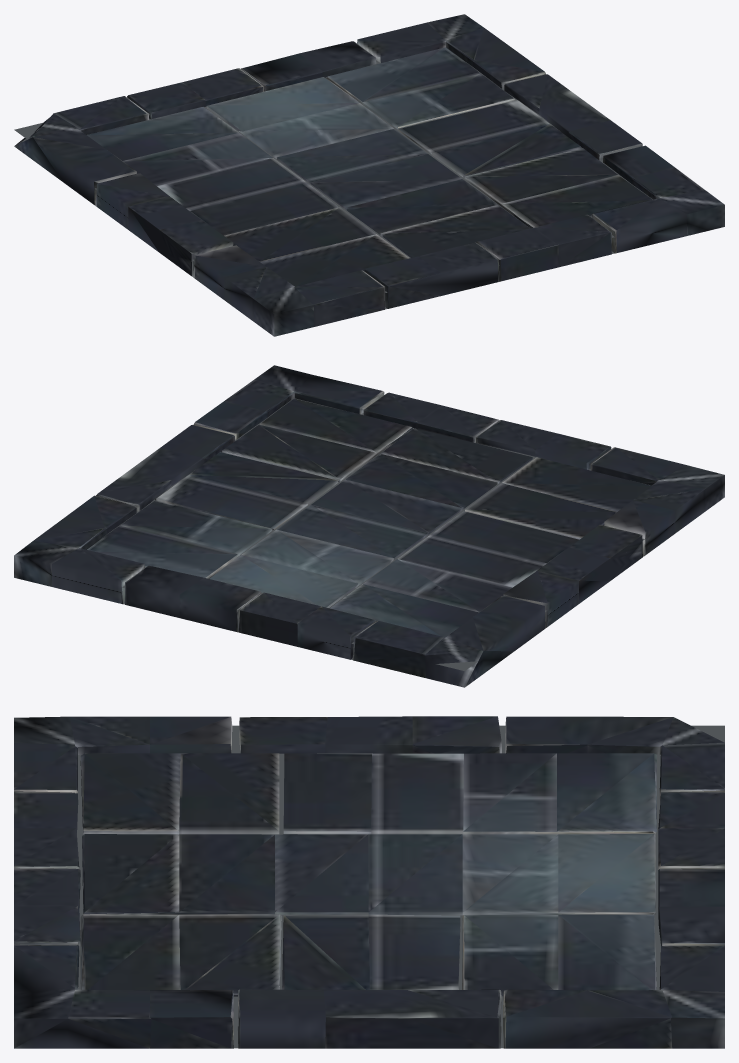
Rendered from floor-slate.lod1.glb.
The picture shows the model from 3 angles, top to bottom: view 1: azimuth 30°, elevation 25°; view 2: azimuth 150°, elevation 25°; view 3: azimuth 270°, elevation 25°; orthographic projection. The views are drawn at different scales.
Bounding box in the file's own units: 2 × 0.0997 × 2.
1 material, 1 textured.
